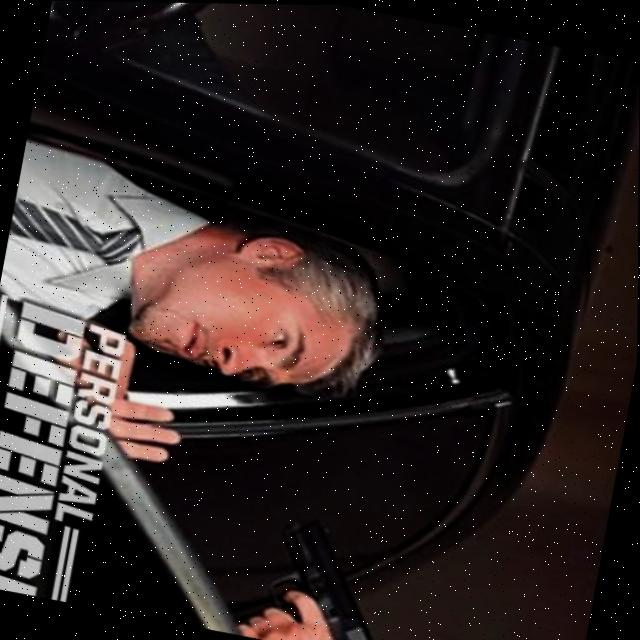pistol: (256, 507, 412, 640)
